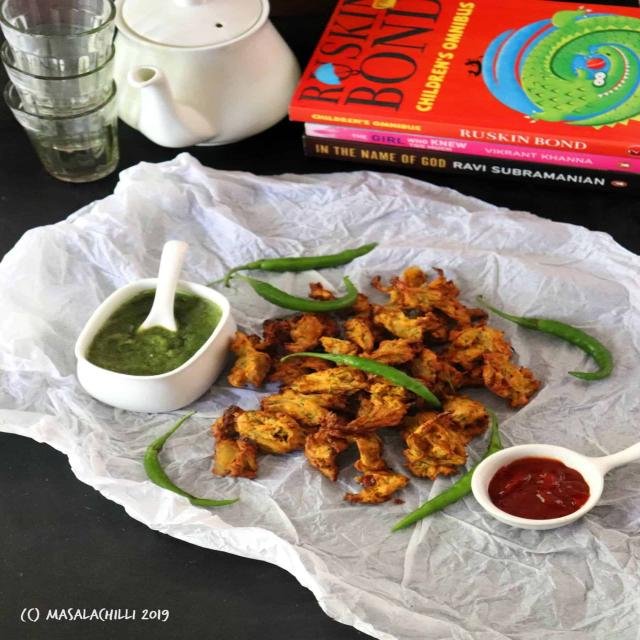BAJI: (213, 269, 538, 504)
